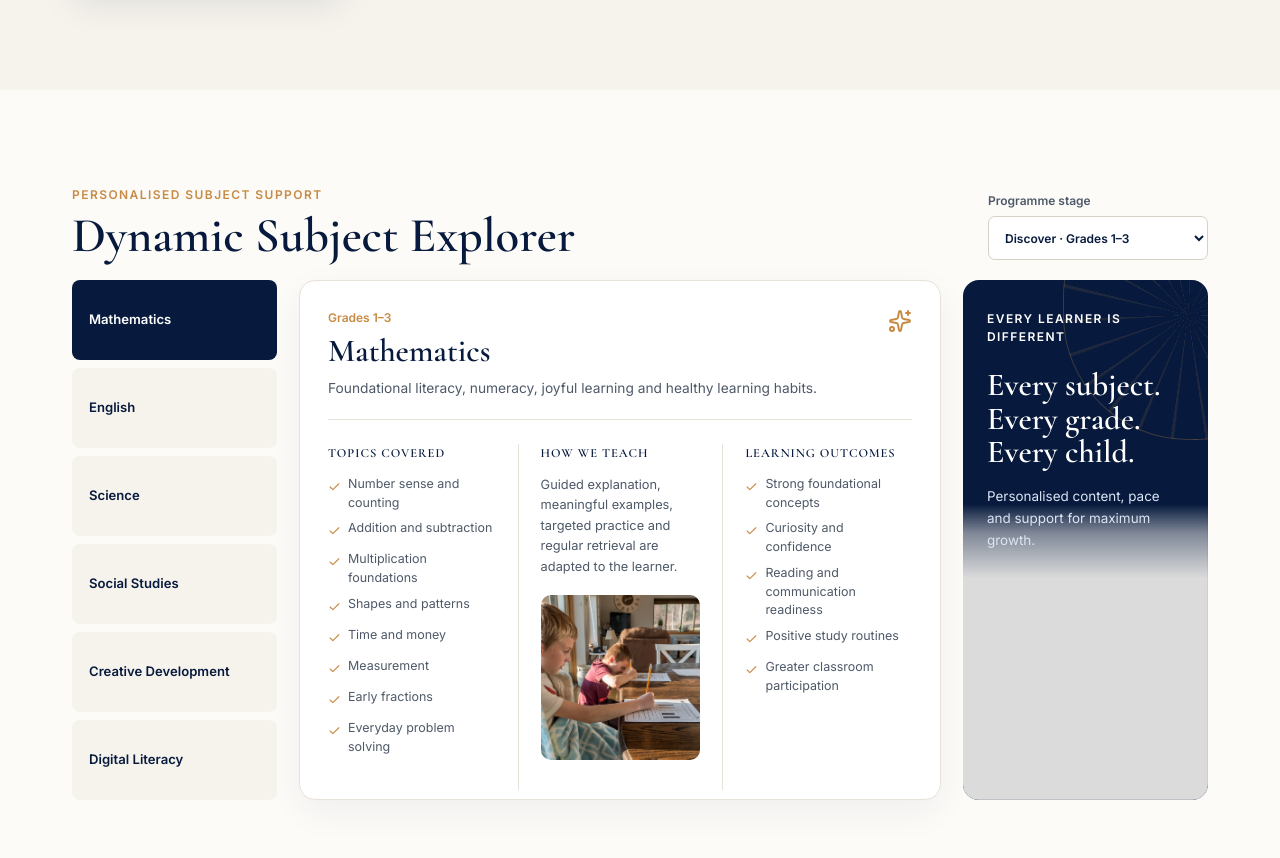
it: School Programme page › changes subjects without leaving the page
(page scrolled)
Click the tab "English". click: (174, 408)
box: x1=72 y1=368 x2=277 y2=448
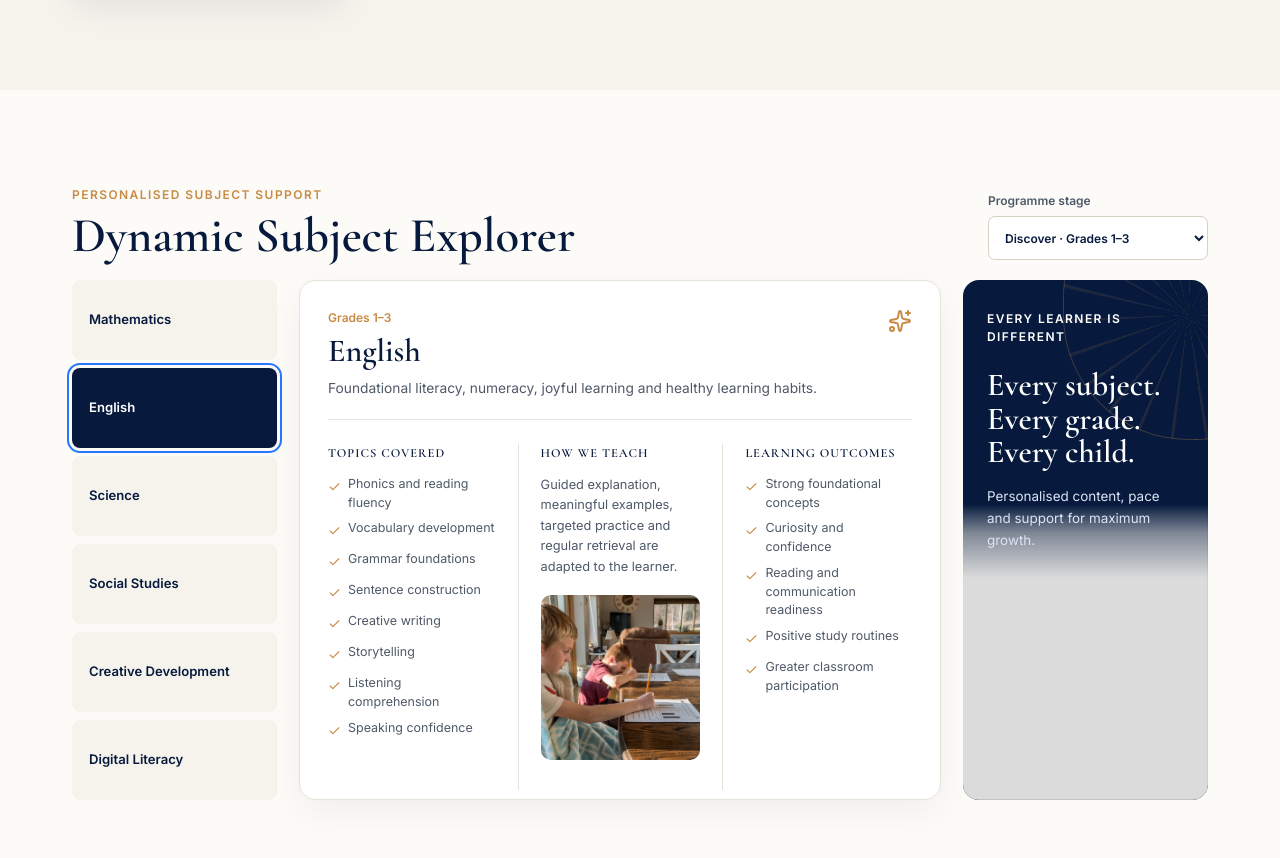
expect the list item "Phonics and reading fluency" is shown: met, box x1=328 y1=475 x2=468 y2=510
